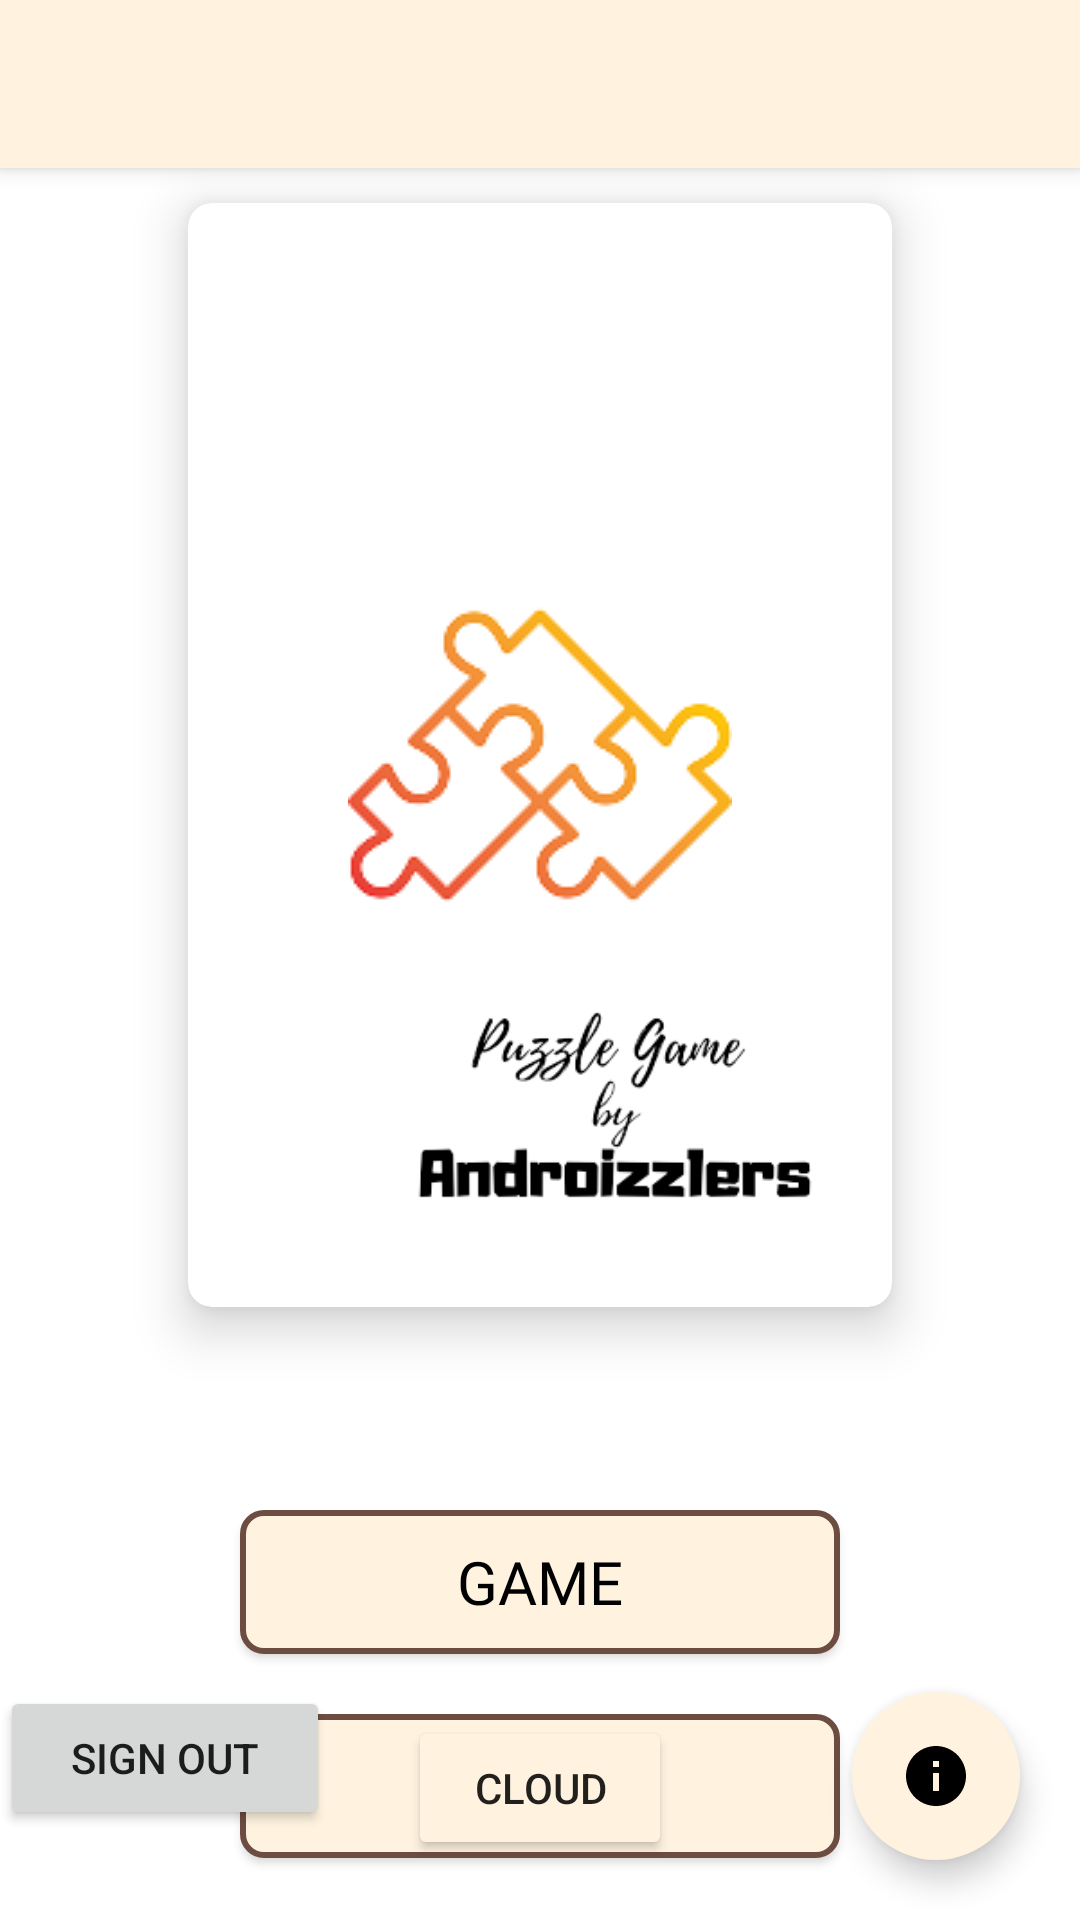

Locate icon controls on the screen. Image size 1080×1920, boxes as (x1,y1,x2,y2).
info: (852,1692,1020,1860)
